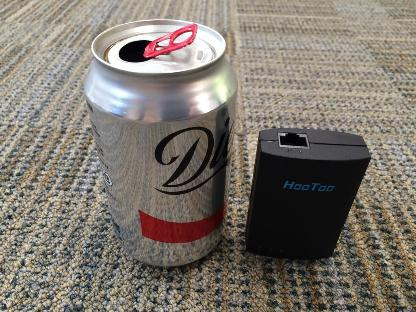Can: (86, 16, 240, 276)
